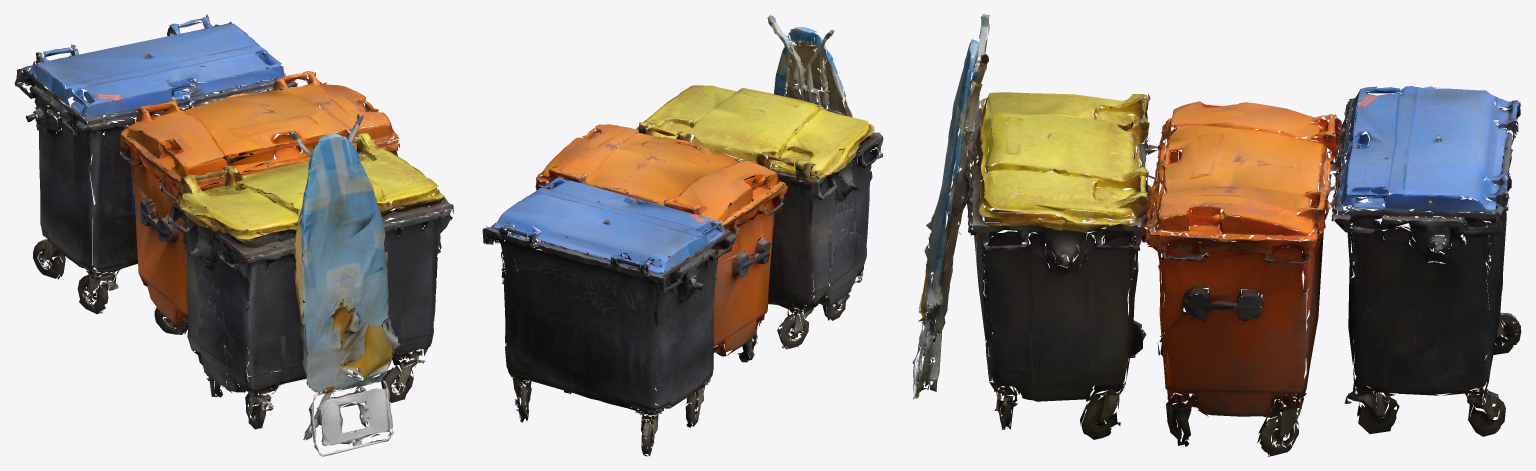
The model's file is bk_dumpsters.glb.
The picture shows the model from 3 angles, left to right: view 1: azimuth 30°, elevation 25°; view 2: azimuth 150°, elevation 25°; view 3: azimuth 270°, elevation 25°; orthographic projection. The views are drawn at different scales.
Parts seen in each view (by area): view 1: Big Trashbins (Photoscan); view 2: Big Trashbins (Photoscan); view 3: Big Trashbins (Photoscan).
Part boxes in pixels (x1,y1,x2,y2): Big Trashbins (Photoscan): (14, 14, 453, 456); Big Trashbins (Photoscan): (482, 14, 883, 456); Big Trashbins (Photoscan): (912, 14, 1521, 456).
Bounding box in the file's own units: 1.9 × 2.15 × 3.38.
1 material, 1 textured.
